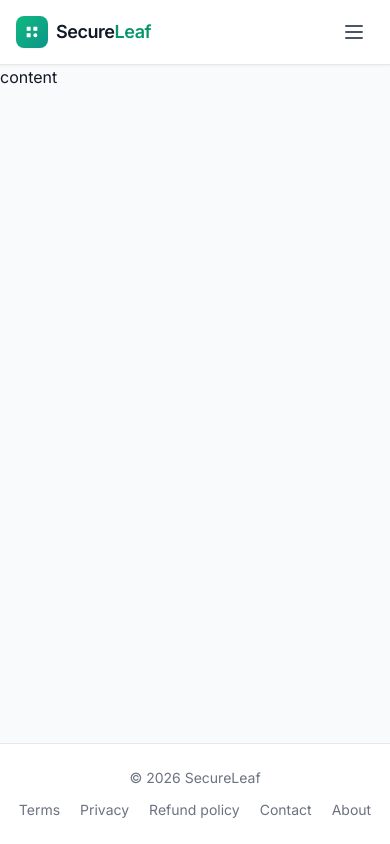
Test: AppLayout mobile menu › closes after tapping a link
What coordinates should you click on to do the following:
click the button named "Open menu"
I would click on:
 (354, 32)
Its box is x1=334 y1=12 x2=374 y2=52.
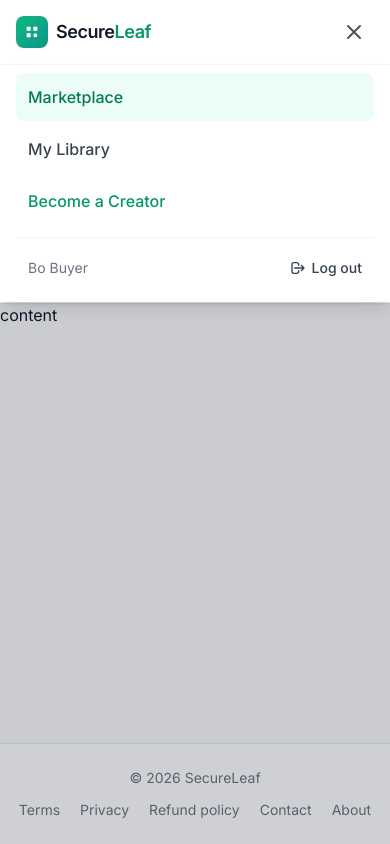
What coordinates should you click on to do the following:
click the link "My Library"
I would click on:
 (69, 149)
Its box is x1=28 y1=139 x2=110 y2=159.
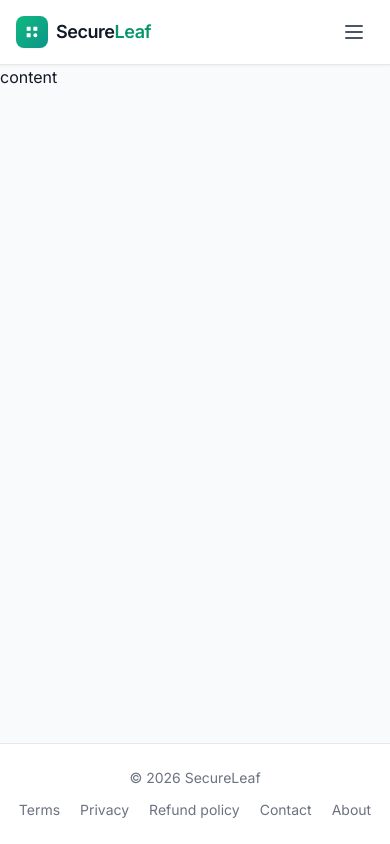
Check: the navigation bar "Mobile" is gone
